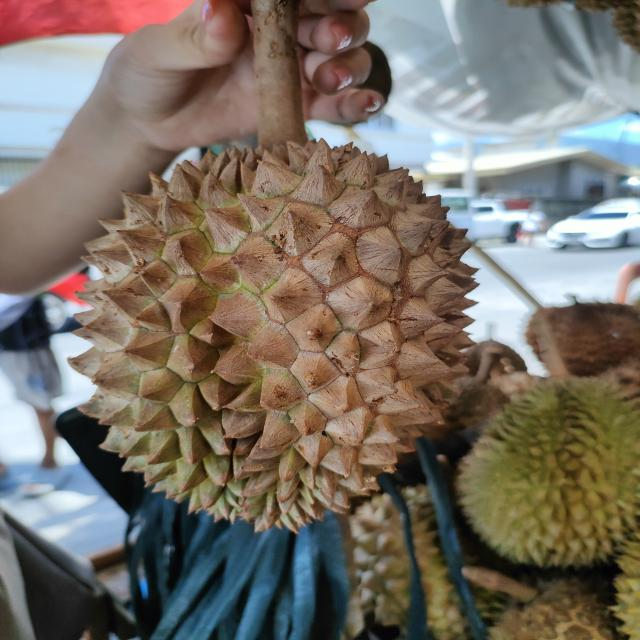mature: (66, 122, 480, 540)
